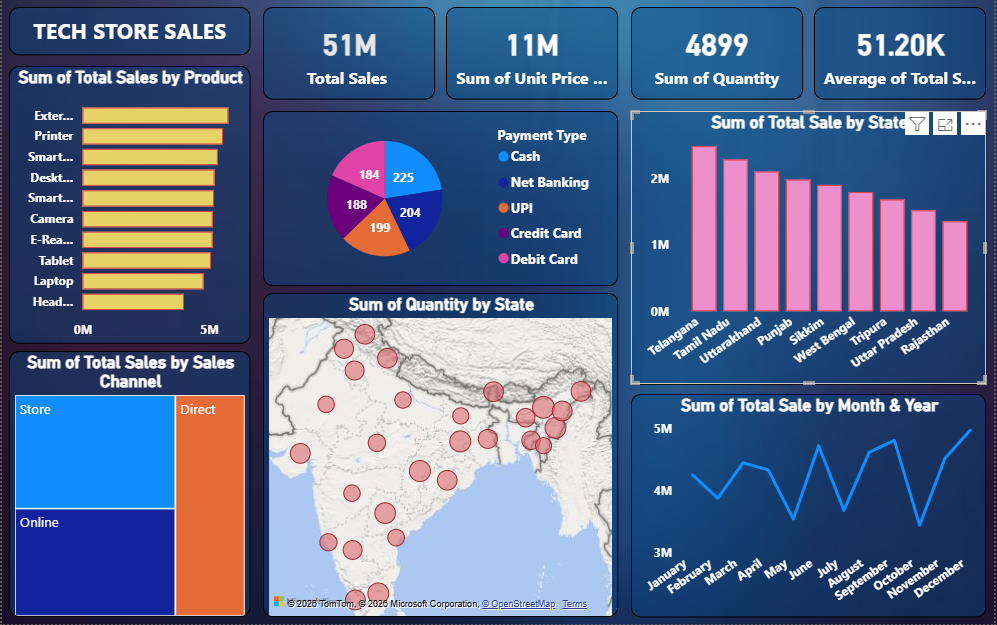

This screenshot's page, from the dashboard's own definition file:
{"tool":"powerbi","page":{"name":"Store_Sales","canvas":[985,620],"ordinal":0},"visuals":[{"type":"textbox","box":[7,7,240,48],"z":0},{"type":"card","fields":{"Values":["Sum(TechyStore Sales_Data.Total Sale (INR))"]},"box":[259,7,171,92],"z":1000},{"type":"card","fields":{"Values":["Sum(TechyStore Sales_Data.Unit Price (INR))"]},"box":[441,7,171,92],"z":2000},{"type":"card","fields":{"Values":["Sum(TechyStore Sales_Data.Quantity)"]},"box":[625,7,171,92],"z":3000},{"type":"card","fields":{"Values":["Avg(TechyStore Sales_Data.Total Sale (INR))"]},"box":[807,7,171,92],"z":4000},{"type":"pieChart","fields":{"Category":["TechyStore Sales_Data.Payment Type"],"Y":["CountNonNull(TechyStore Sales_Data.Payment Type)"]},"box":[259,110,353,174],"z":5000},{"type":"clusteredColumnChart","title":"Sum of Total Sale by State","fields":{"Category":["TechyStore Sales_Data.State"],"Y":["Sum(TechyStore Sales_Data.Total Sale (INR))"]},"box":[625,110,353,272],"z":6000},{"type":"lineChart","title":"Sum of Total Sale by Month & Year","fields":{"Y":["Sum(TechyStore Sales_Data.Total Sale (INR))"],"Category":["TechyStore Sales_Data.Sales Date.Variation.Date Hierarchy.Year","TechyStore Sales_Data.Sales Date.Variation.Date Hierarchy.Month"]},"box":[625,391,353,222],"z":7000},{"type":"clusteredBarChart","fields":{"Y":["Sum(TechyStore Sales_Data.Total Sale (INR))"],"Category":["TechyStore Sales_Data.Product"]},"box":[7,66,240,276],"z":8000},{"type":"map","fields":{"Category":["TechyStore Sales_Data.State"],"Size":["Sum(TechyStore Sales_Data.Quantity)"]},"box":[259,291,353,322],"z":9000},{"type":"treemap","fields":{"Group":["TechyStore Sales_Data.Sales Channel"],"Values":["Sum(TechyStore Sales_Data.Total Sale (INR))"]},"box":[7,349,240,264],"z":10000}]}

Visuals, with their boxes in screenshot pixels (x1, y1, x2, y2), scaled from the page's 985x620 canvas onto the 997x625 screenshot:
textbox: detection(7, 7, 250, 55)
card - Sum(TechyStore Sales_Data.Total Sale (INR)): detection(262, 7, 435, 100)
card - Sum(TechyStore Sales_Data.Unit Price (INR)): detection(446, 7, 619, 100)
card - Sum(TechyStore Sales_Data.Quantity): detection(633, 7, 806, 100)
card - Avg(TechyStore Sales_Data.Total Sale (INR)): detection(817, 7, 990, 100)
pieChart - TechyStore Sales_Data.Payment Type x CountNonNull(TechyStore Sales_Data.Payment Type): detection(262, 111, 619, 286)
"Sum of Total Sale by State" clusteredColumnChart: detection(633, 111, 990, 385)
"Sum of Total Sale by Month & Year" lineChart: detection(633, 394, 990, 618)
clusteredBarChart - Sum(TechyStore Sales_Data.Total Sale (INR)) x TechyStore Sales_Data.Product: detection(7, 67, 250, 345)
map - TechyStore Sales_Data.State x Sum(TechyStore Sales_Data.Quantity): detection(262, 293, 619, 618)
treemap - TechyStore Sales_Data.Sales Channel x Sum(TechyStore Sales_Data.Total Sale (INR)): detection(7, 352, 250, 618)
